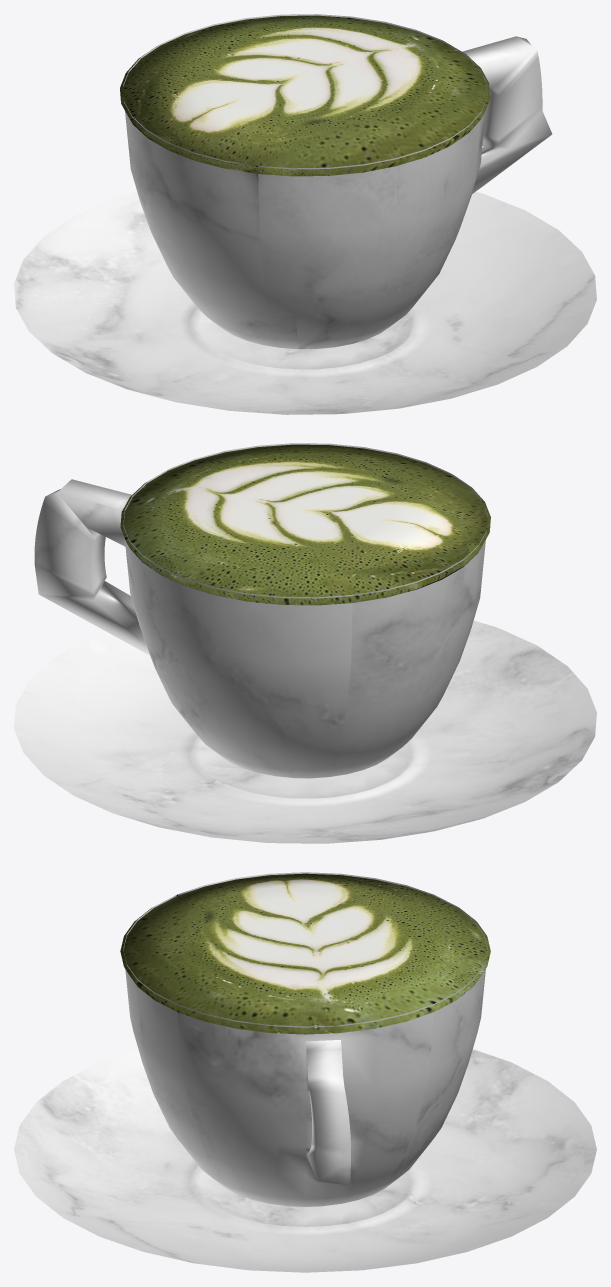
The model's file is cangkir.glb.
3 views of the same model, one above another, from view 1: azimuth 30°, elevation 25°; view 2: azimuth 150°, elevation 25°; view 3: azimuth 270°, elevation 25° (orthographic).
Visible parts, largest first — view 1: Circle, Cylinder, Cylinder.001; view 2: Circle, Cylinder, Cylinder.001; view 3: Circle, Cylinder, Cylinder.001.
Part boxes in pixels (x1,y1,x2,y2): Circle: (14,191,596,414); Cylinder: (123,14,552,349); Cylinder.001: (120,15,490,176); Circle: (14,620,596,843); Cylinder: (34,443,487,778); Cylinder.001: (120,444,490,605); Circle: (14,1049,596,1272); Cylinder: (123,872,487,1206); Cylinder.001: (120,873,490,1034).
Size of the model in its own units: 33.67 by 15.74 by 33.67.
3 materials, 3 textured.
